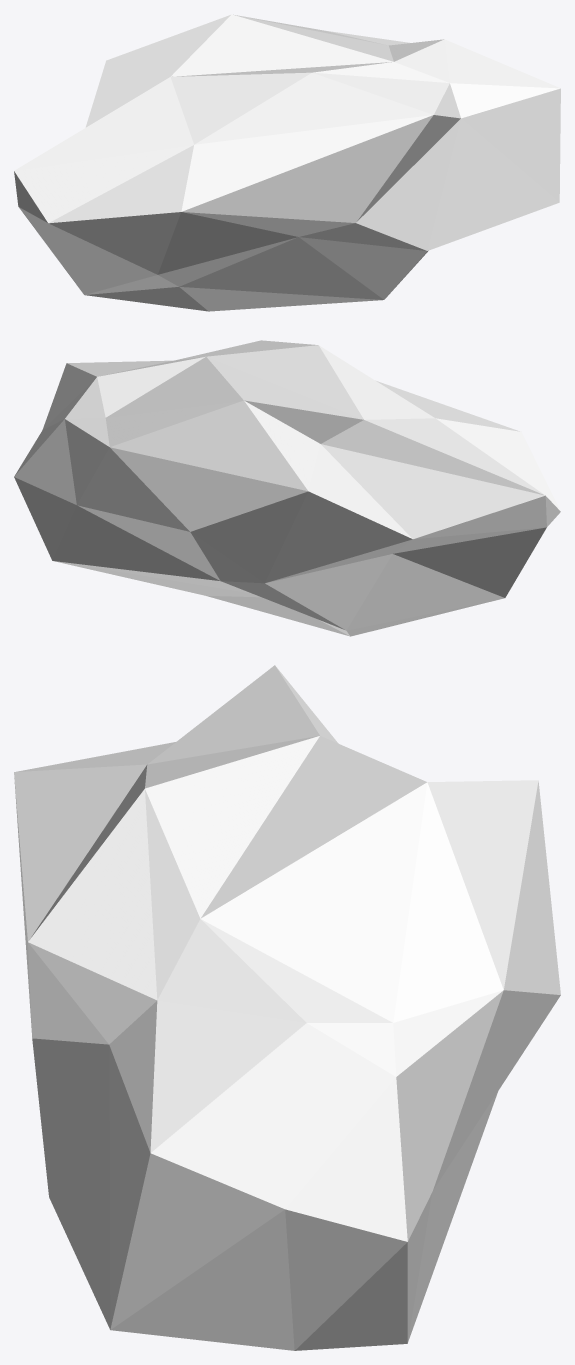
File: cloud.glb
3 renders of one model, top to bottom at view 1: azimuth 30°, elevation 25°; view 2: azimuth 150°, elevation 25°; view 3: azimuth 270°, elevation 25°, orthographic. The views are drawn at different scales.
Visible parts, largest first — view 1: Cloud; view 2: Cloud; view 3: Cloud.
Part boxes in pixels (box(x1,y1,x2,y2)): Cloud: box(14, 14, 560, 311); Cloud: box(14, 340, 560, 636); Cloud: box(14, 665, 560, 1350).
Size of the model in its own units: 24.82 by 11.6 by 12.59.
1 material, 1 textured.
